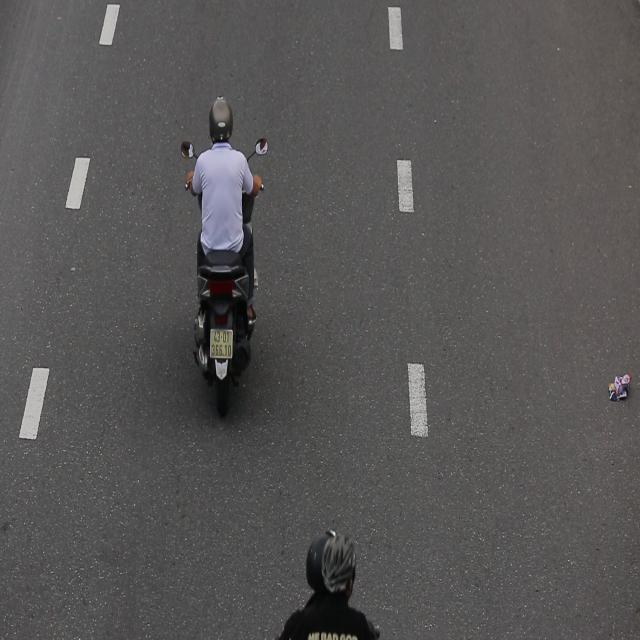motorbike: (174, 78, 276, 418)
